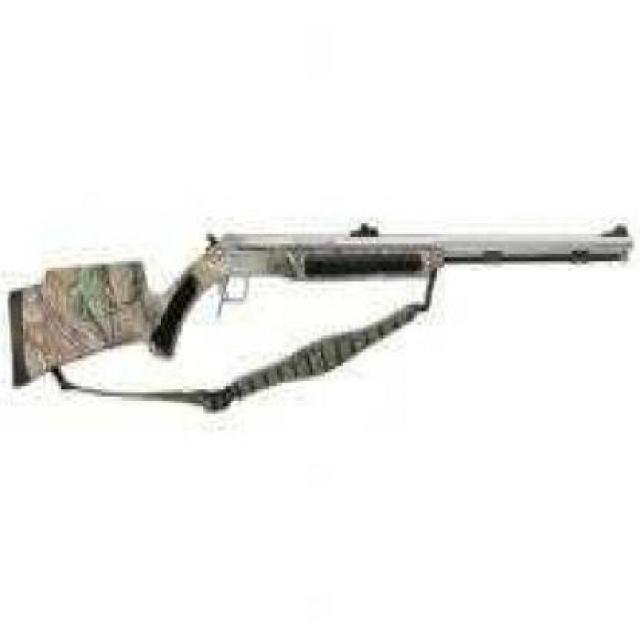weapon: (14, 222, 631, 408)
